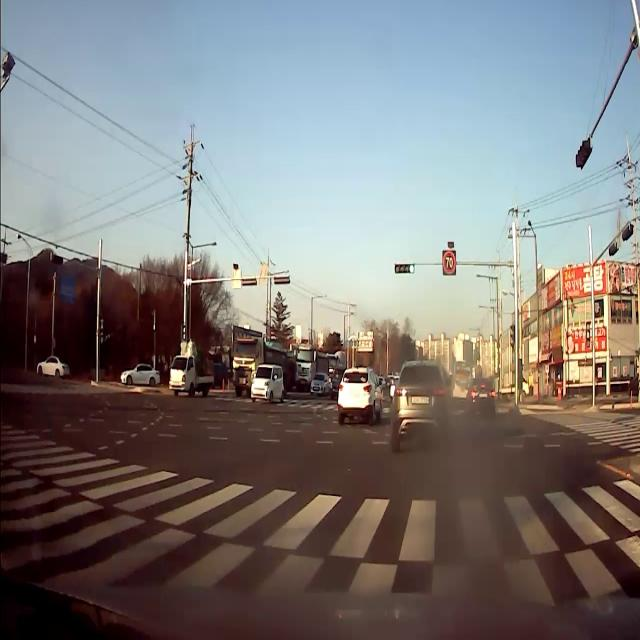Green Light: (409, 264, 414, 274)
